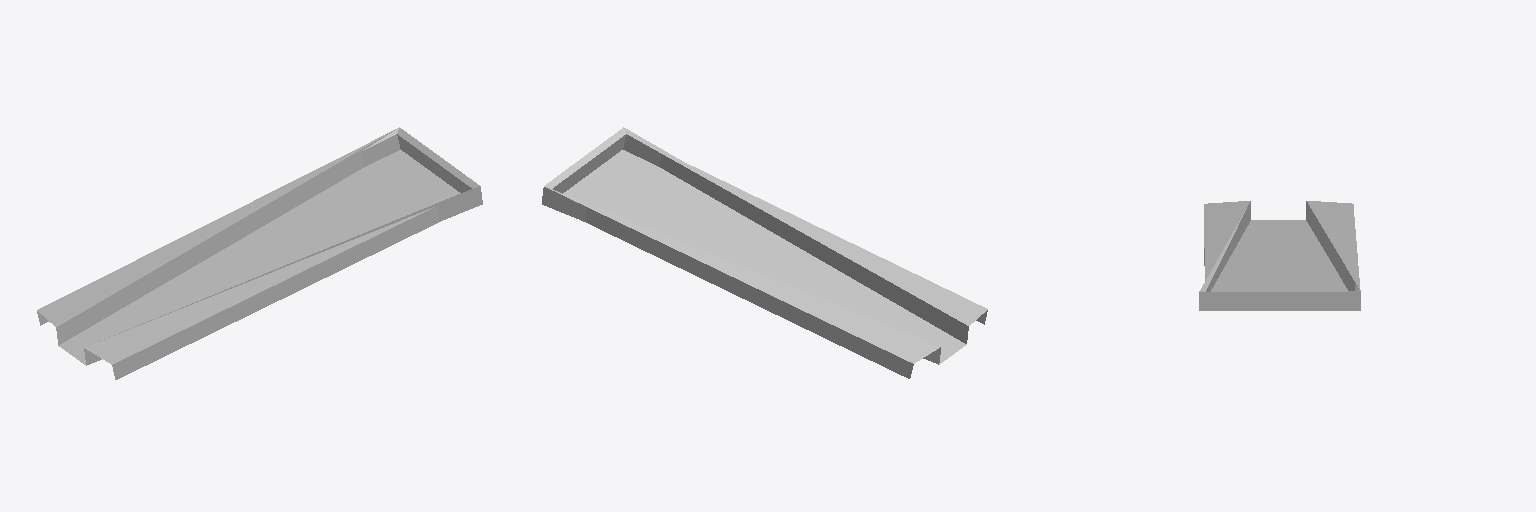
Rendered from Obsticle1Fix.obj.
The picture shows the model from 3 angles: view 1: azimuth 30°, elevation 25°; view 2: azimuth 150°, elevation 25°; view 3: azimuth 270°, elevation 25°; orthographic projection.
Visible parts, largest first — view 1: Cube; view 2: Cube; view 3: Cube.
Boxes of the visible parts, x1=… form: Cube: x1=37, y1=127, x2=482, y2=379; Cube: x1=542, y1=127, x2=987, y2=378; Cube: x1=1199, y1=201, x2=1360, y2=310.
Bounding box in the file's own units: 39.14 × 10.88 × 14.64.